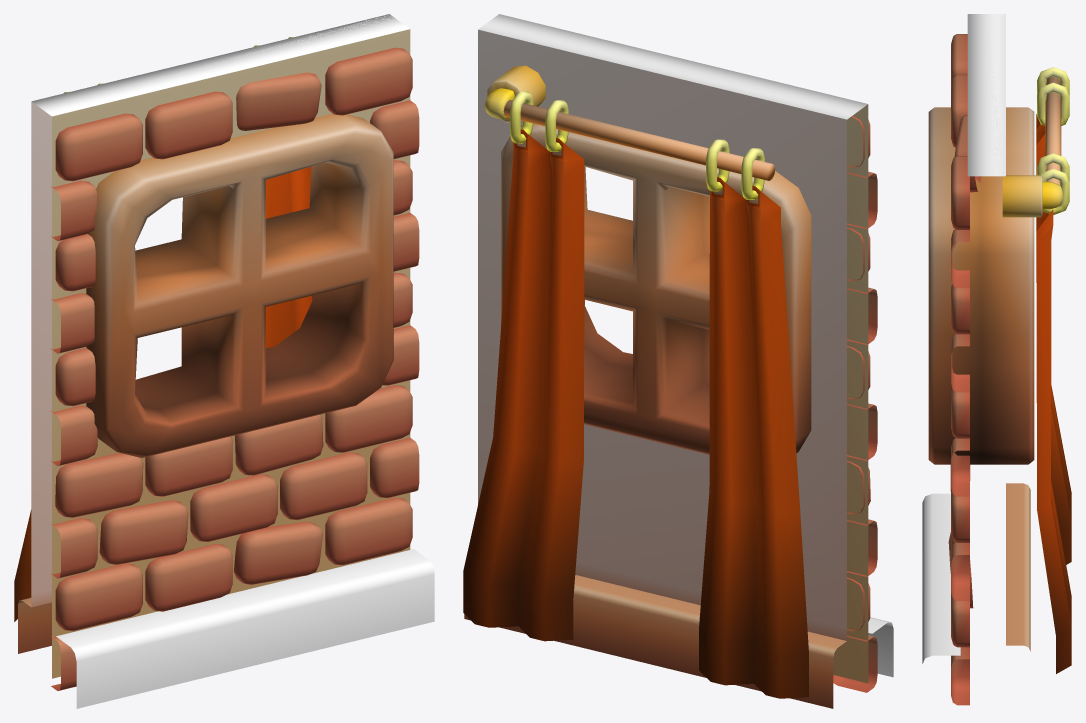
The model's file is WhiteWall_CurtainWindowb_M.fbx.
3 renders of one model, left to right at view 1: azimuth 30°, elevation 25°; view 2: azimuth 150°, elevation 25°; view 3: azimuth 270°, elevation 25°, orthographic. The views are drawn at different scales.
Parts seen in each view (by area): view 1: BrickWall.003; view 2: BrickWall.003; view 3: BrickWall.003.
Part boxes in pixels (left/top/right/bottom): BrickWall.003: left=14, top=14, right=434, bottom=708; BrickWall.003: left=463, top=14, right=893, bottom=708; BrickWall.003: left=922, top=14, right=1071, bottom=705.
Size of the model in its own units: 200 by 307 by 78.01.
